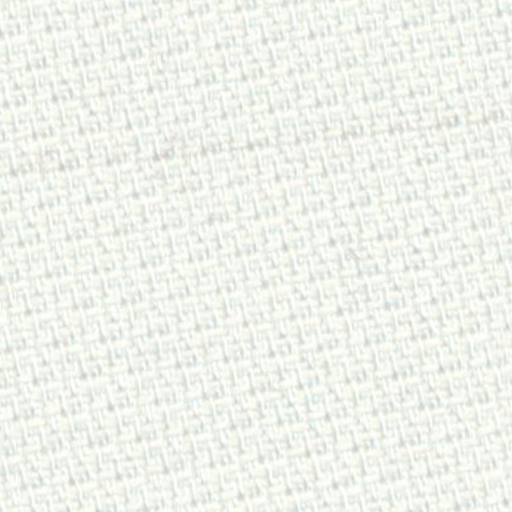WuZi: (114, 102, 502, 175)
